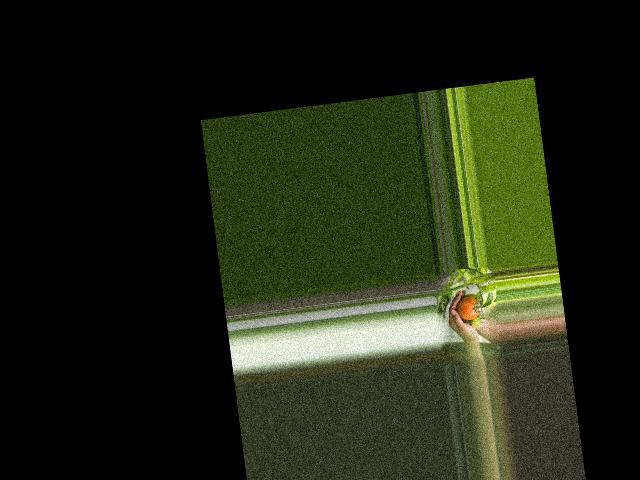tomato: (455, 296, 481, 321)
